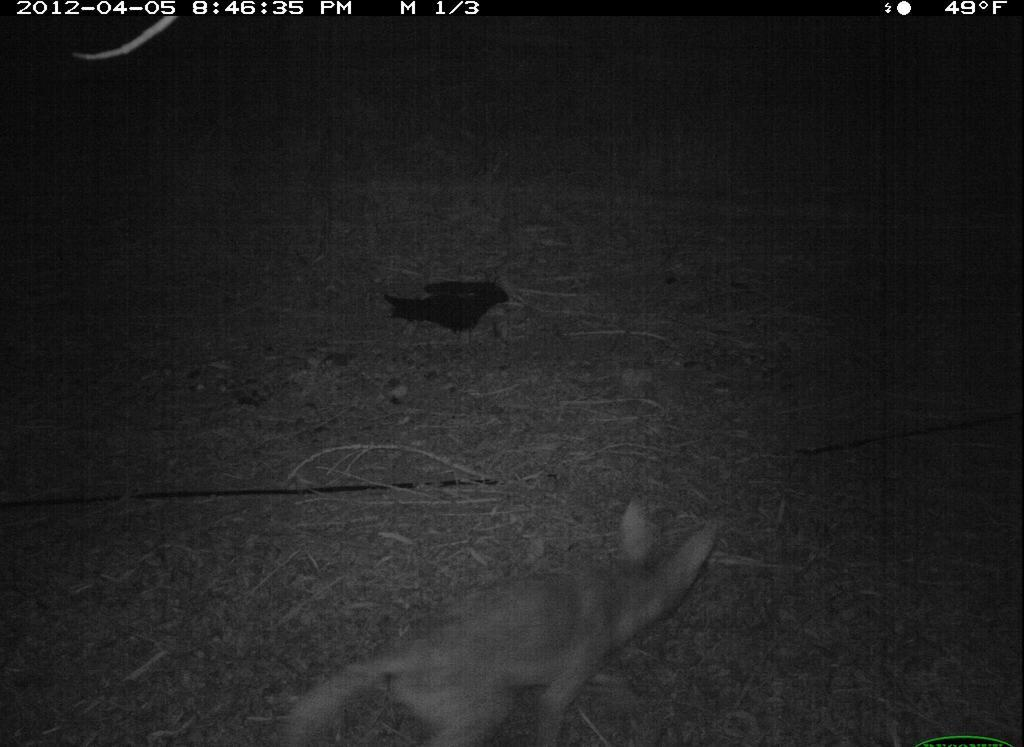coyote: (276, 492, 730, 747)
